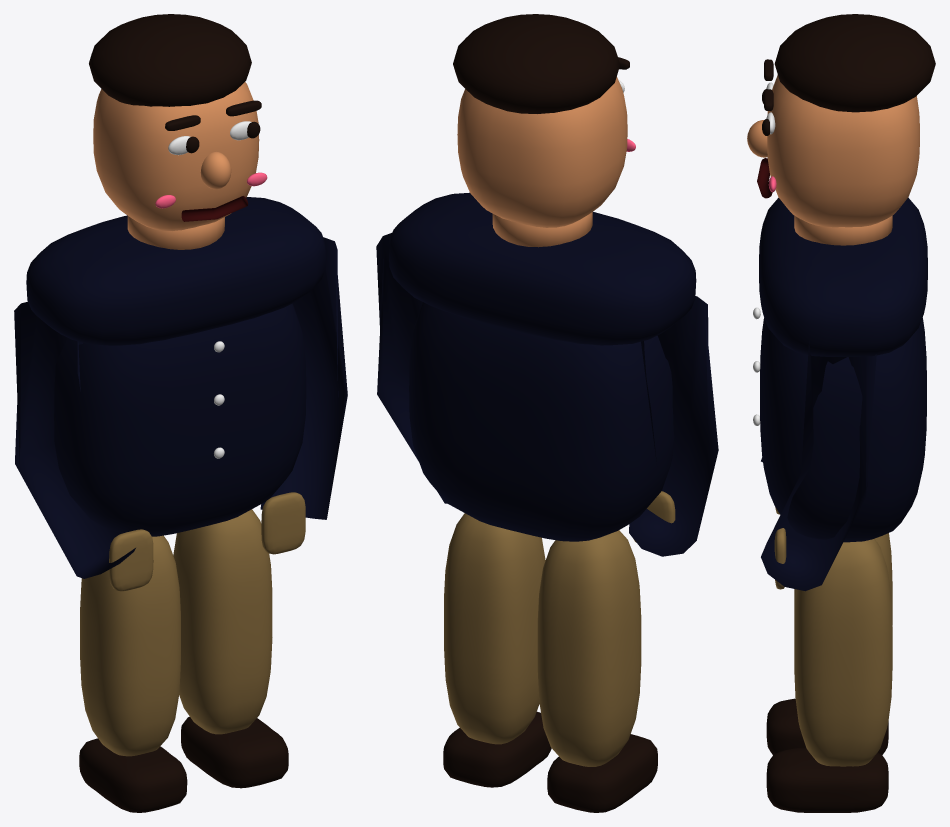
File: AwkwardSmileGuy.fbx
3 views of the same model, side by side, from view 1: azimuth 30°, elevation 25°; view 2: azimuth 150°, elevation 25°; view 3: azimuth 270°, elevation 25° (orthographic). The views are drawn at different scales.
Visible parts, largest first — view 1: AwkwardSmileGuy; view 2: AwkwardSmileGuy; view 3: AwkwardSmileGuy.
Part boxes in pixels (x1,y1,x2,y2): AwkwardSmileGuy: (14,14,347,812); AwkwardSmileGuy: (376,14,718,812); AwkwardSmileGuy: (747,14,935,812).
Bounding box in the file's own units: 1.92 × 4.21 × 0.96.
Materials: 1 (1 with a texture image).
